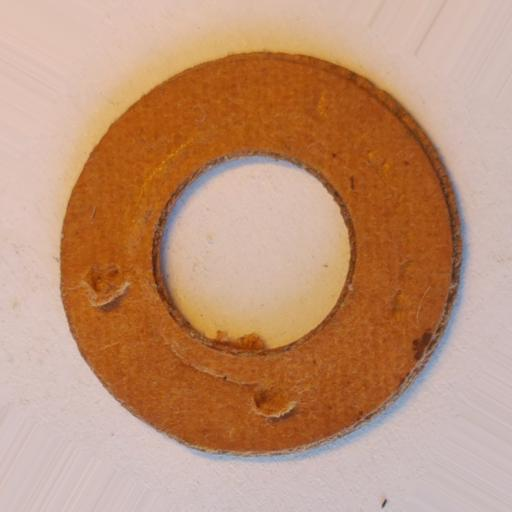defect: (81, 261, 132, 311), (251, 385, 298, 419)
